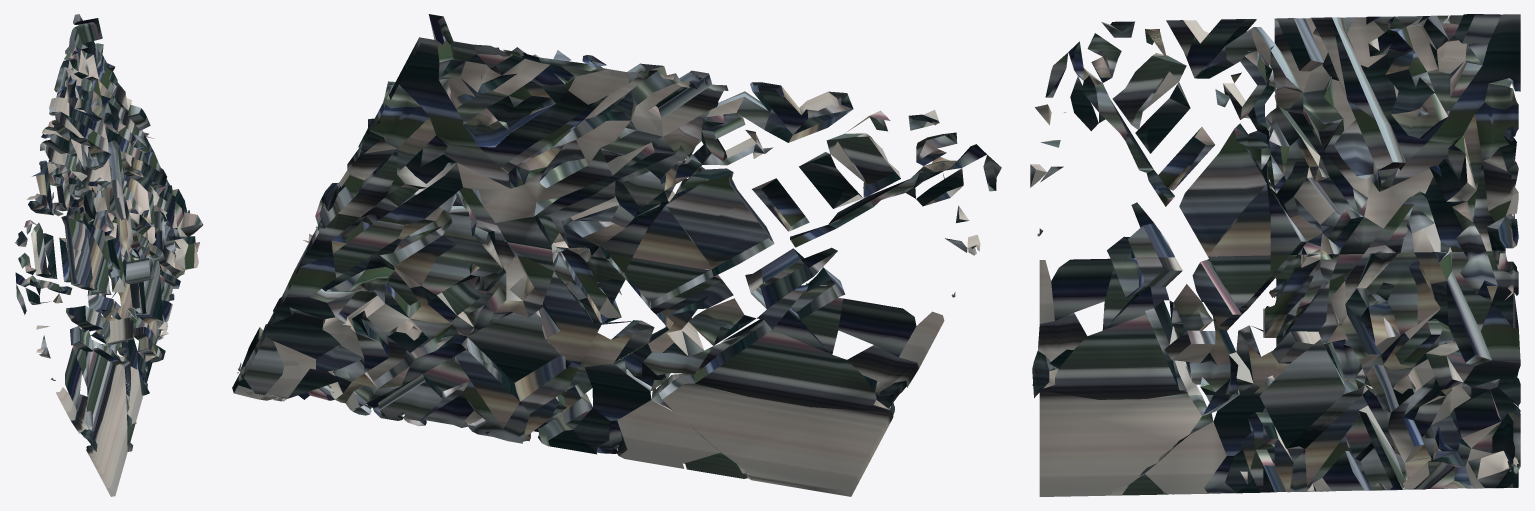
3 renders of one model, left to right at view 1: azimuth 30°, elevation 25°; view 2: azimuth 150°, elevation 25°; view 3: azimuth 270°, elevation 25°, orthographic. The views are drawn at different scales.
Parts seen in each view (by area): view 1: node_3043627270436163_mesh0; view 2: node_3043627270436163_mesh0; view 3: node_3043627270436163_mesh0.
Part boxes in pixels (bbox=[...]): node_3043627270436163_mesh0: bbox=[14, 14, 203, 496]; node_3043627270436163_mesh0: bbox=[232, 14, 1001, 496]; node_3043627270436163_mesh0: bbox=[1030, 14, 1520, 496].
Bounding box in the file's own units: 550 × 587 × 452.
Materials: 1 (1 with a texture image).
